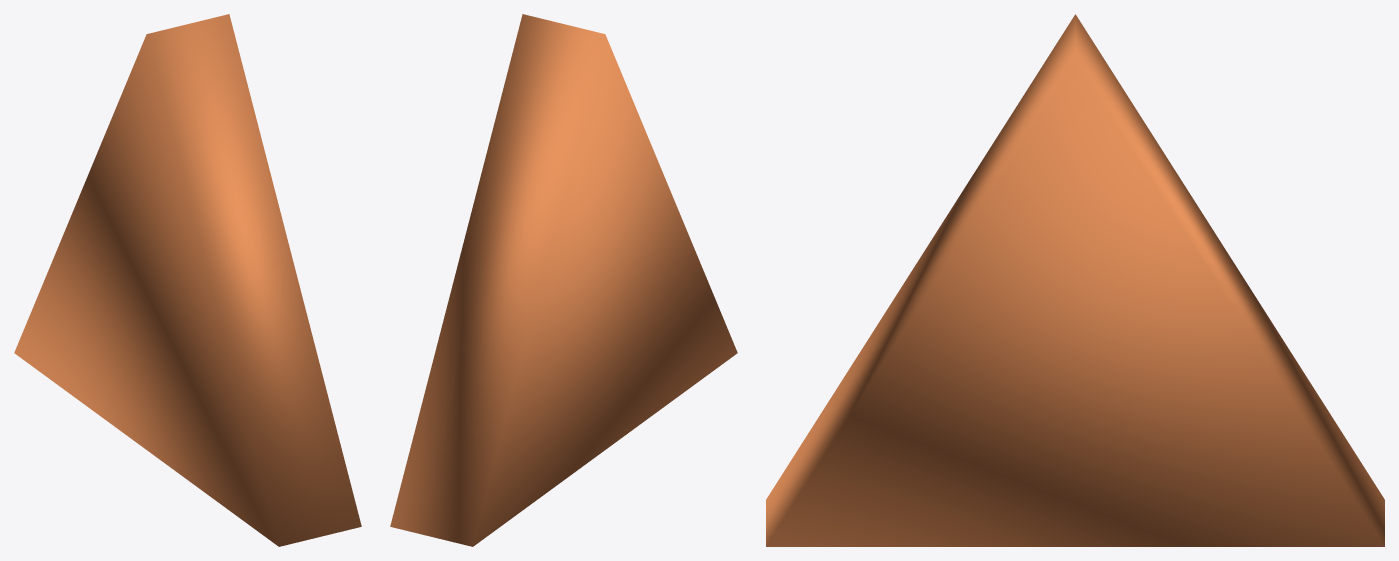
File: shape-triangle-orange.glb
The picture shows the model from 3 angles, left to right: view 1: azimuth 30°, elevation 25°; view 2: azimuth 150°, elevation 25°; view 3: azimuth 270°, elevation 25°; orthographic projection. The views are drawn at different scales.
Parts seen in each view (by area): view 1: solid triangle; view 2: solid triangle; view 3: solid triangle.
Boxes of the visible parts, box(x1,y1,x2,y2) form: solid triangle: box(14, 14, 361, 546); solid triangle: box(390, 14, 737, 546); solid triangle: box(766, 14, 1384, 546).
Bounding box in the file's own units: 0.25 × 1.2 × 1.39.
